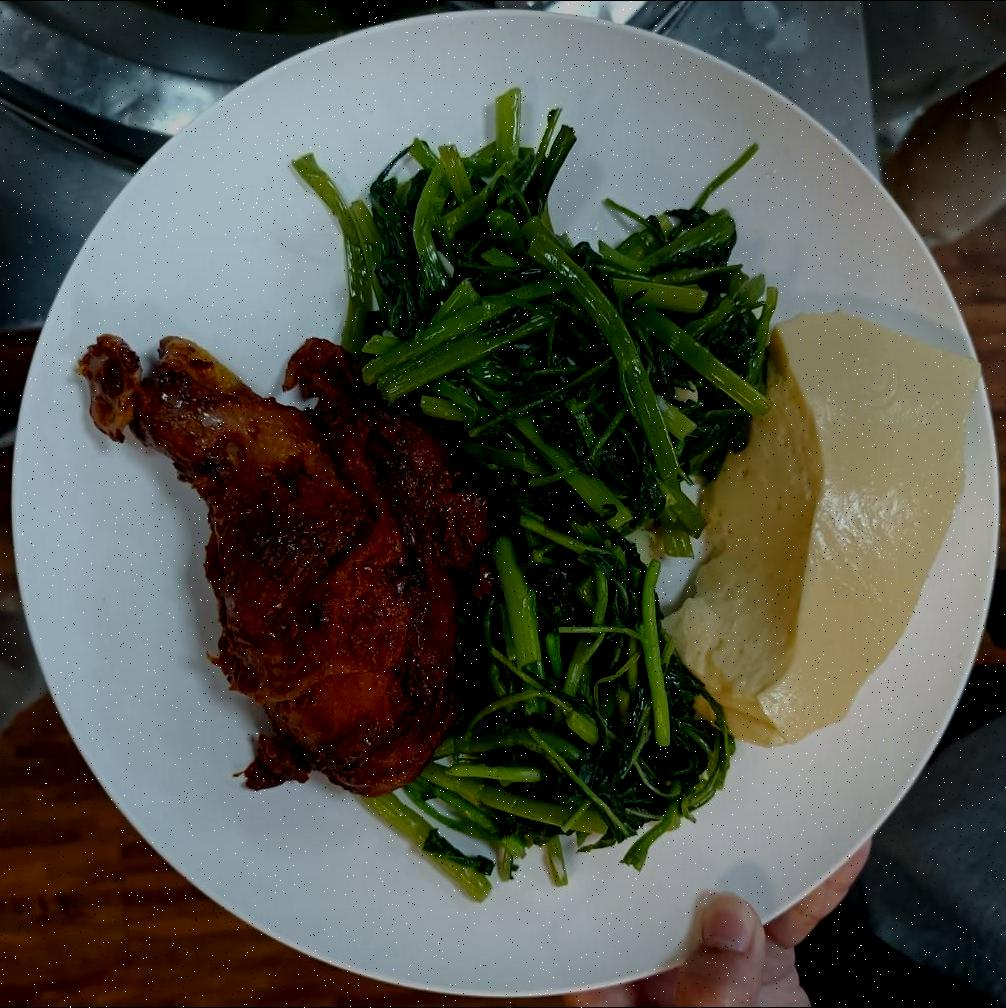honey grilled chicken leg: (76, 334, 490, 801)
plate: (12, 1, 999, 997)
side dish: (334, 114, 784, 537), (666, 304, 982, 759), (417, 549, 746, 879)
